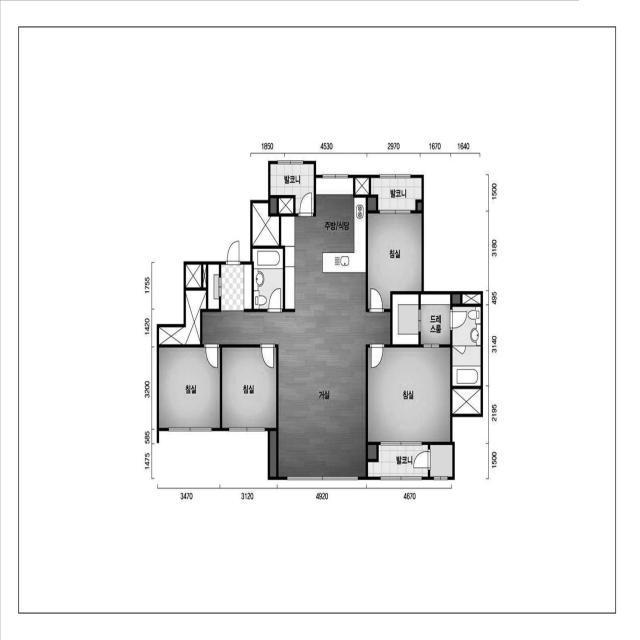space_balconi: (270, 164, 313, 213), (368, 445, 428, 477), (371, 178, 422, 210)
space_bedroom: (368, 348, 450, 442), (368, 214, 422, 309), (159, 348, 220, 428), (222, 348, 276, 428)
space_dressroom: (393, 295, 450, 344)
space_front: (208, 265, 251, 311)
space_kitchen: (281, 178, 366, 309)
space_living_room: (202, 309, 390, 477)
space_other: (159, 291, 206, 344), (252, 204, 279, 245), (431, 445, 452, 476), (453, 389, 480, 413), (186, 264, 201, 288), (270, 431, 276, 477), (278, 198, 293, 214), (355, 178, 369, 195), (463, 294, 481, 304), (270, 198, 277, 214), (368, 445, 376, 459), (368, 197, 376, 210), (452, 295, 460, 304), (203, 265, 206, 288), (418, 203, 422, 210)
space_toilet: (452, 307, 480, 386), (252, 249, 283, 308)
